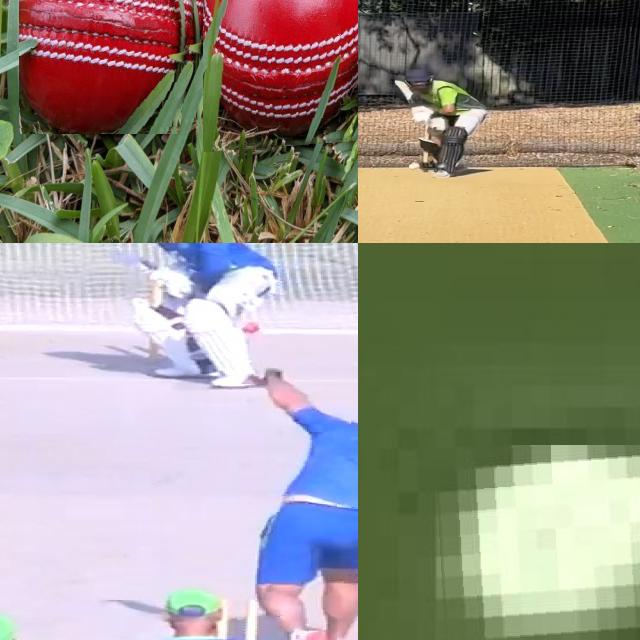Cricket ball: (434, 445, 640, 640), (18, 0, 205, 133), (203, 0, 358, 152), (238, 322, 263, 338), (406, 162, 422, 171)
